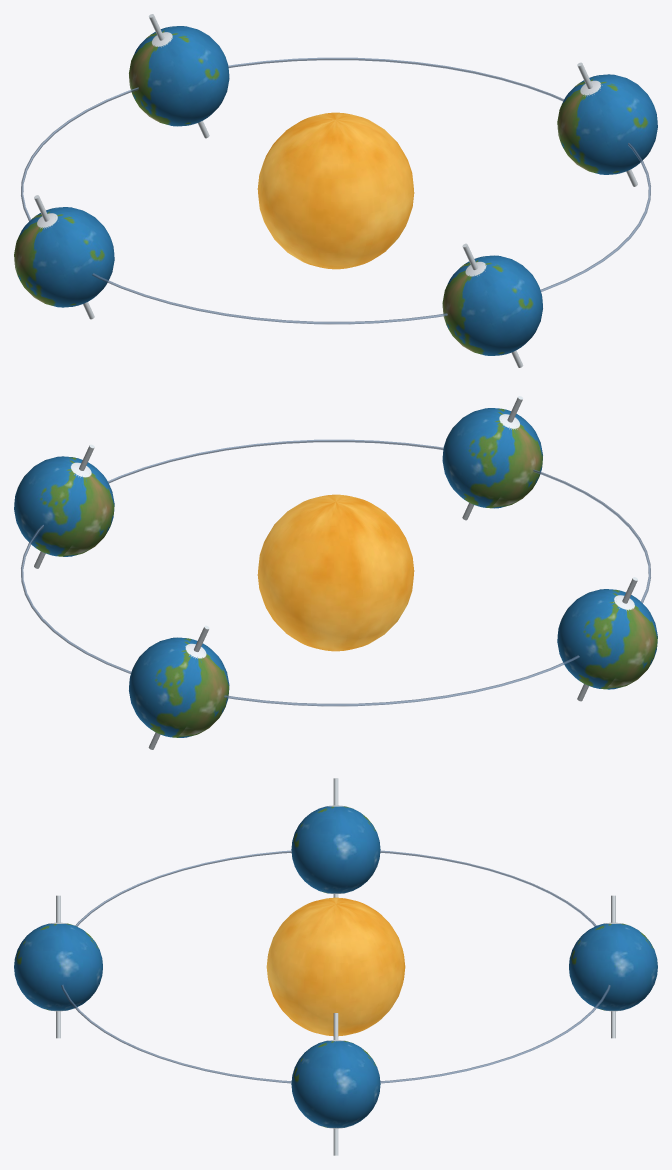
File: revolusi.glb
3 renders of one model, top to bottom at view 1: azimuth 30°, elevation 25°; view 2: azimuth 150°, elevation 25°; view 3: azimuth 270°, elevation 25°, orthographic. The views are drawn at different scales.
Visible parts, largest first — view 1: Matahari, BumiDesember, BumiJuni, BumiSeptember, BumiMaret, Orbit; view 2: Matahari, BumiDesember, BumiJuni, BumiMaret, BumiSeptember, Orbit; view 3: Matahari, BumiJuni, BumiMaret, BumiSeptember, BumiDesember, Orbit.
Part boxes in pixels (left/top/right/bottom): Matahari: left=257, top=112, right=414, bottom=269; BumiDesember: left=14, top=207, right=114, bottom=307; BumiJuni: left=557, top=74, right=657, bottom=174; BumiSeptember: left=129, top=26, right=229, bottom=126; BumiMaret: left=442, top=255, right=542, bottom=355; Orbit: left=21, top=57, right=650, bottom=324; Matahari: left=257, top=494, right=414, bottom=651; BumiDesember: left=557, top=589, right=657, bottom=689; BumiJuni: left=14, top=456, right=114, bottom=556; BumiMaret: left=442, top=408, right=542, bottom=508; BumiSeptember: left=129, top=637, right=229, bottom=737; Orbit: left=21, top=439, right=650, bottom=706; Matahari: left=266, top=897, right=405, bottom=1036; BumiJuni: left=291, top=1040, right=380, bottom=1128; BumiMaret: left=14, top=922, right=102, bottom=1011; BumiSeptember: left=569, top=922, right=657, bottom=1011; BumiDesember: left=291, top=805, right=380, bottom=893; Orbit: left=61, top=850, right=610, bottom=1083.
Bounding box in the file's own units: 0.65 × 0.14 × 0.65.
4 materials, 2 textured.
